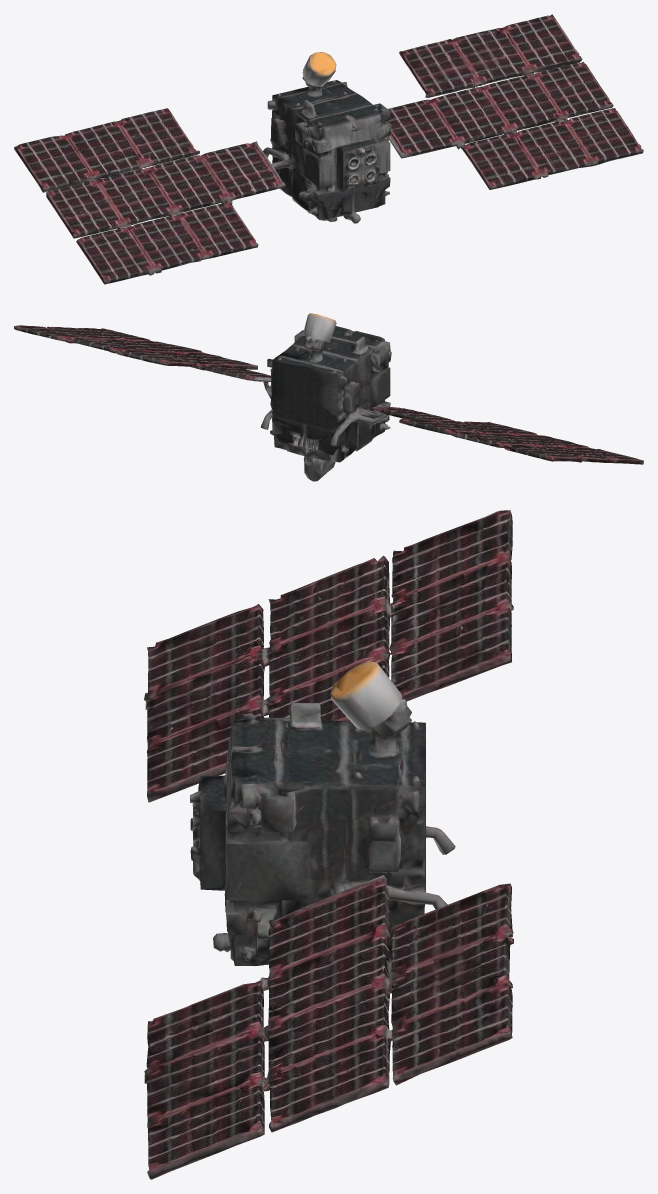
File: destinyplus-low.glb
3 renders of one model, top to bottom at view 1: azimuth 30°, elevation 25°; view 2: azimuth 150°, elevation 25°; view 3: azimuth 270°, elevation 25°, orthographic. The views are drawn at different scales.
Bounding box in the file's own units: 1.9 × 0.5519 × 0.5655.
Materials: 1 (1 with a texture image).
